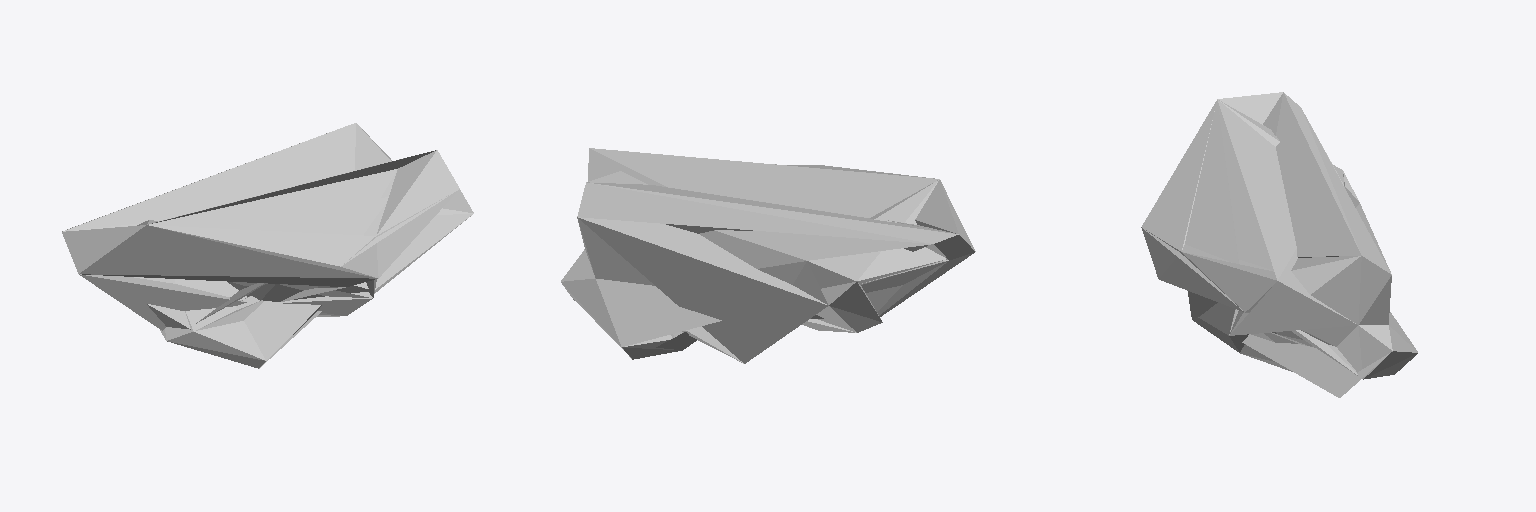
File: Sentinel Fuselage Chunks.obj
3 renders of one model, left to right at view 1: azimuth 30°, elevation 25°; view 2: azimuth 150°, elevation 25°; view 3: azimuth 270°, elevation 25°, orthographic.
Parts seen in each view (by area): view 1: _ground_point, sentinel_fuselage_bit, frame_root; view 2: _ground_point, sentinel_fuselage_bit, frame_root; view 3: _ground_point, sentinel_fuselage_bit, frame_root.
Boxes of the visible parts, box(x1,y1,x2,y2) form: _ground_point: box(62, 123, 473, 368); sentinel_fuselage_bit: box(62, 123, 473, 368); frame_root: box(151, 190, 457, 277); _ground_point: box(573, 148, 973, 363); sentinel_fuselage_bit: box(561, 164, 975, 363); frame_root: box(857, 182, 946, 284); _ground_point: box(1143, 92, 1417, 397); sentinel_fuselage_bit: box(1141, 92, 1417, 379); frame_root: box(1144, 100, 1242, 310).
Bounding box in the file's own units: 41.59 × 18.21 × 25.94.